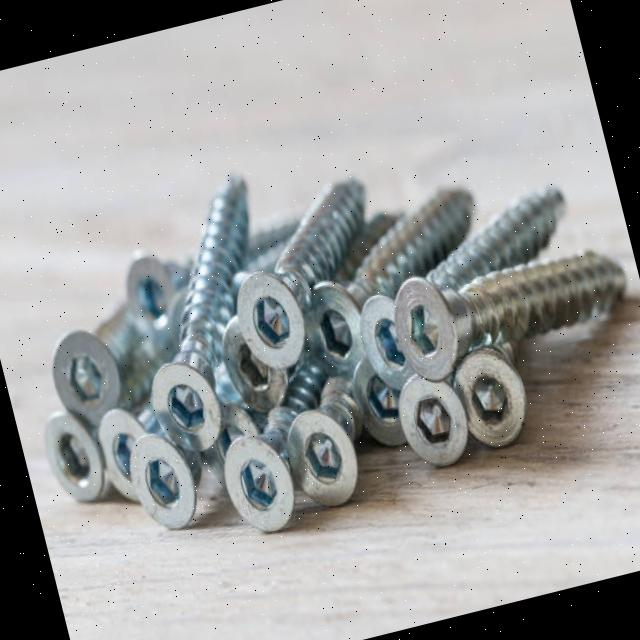Hex Socket Allen: (449, 344, 545, 455), (385, 365, 476, 475), (278, 401, 366, 513), (216, 425, 304, 537), (33, 322, 127, 424), (385, 266, 464, 372), (226, 267, 308, 366), (124, 434, 200, 530), (216, 317, 288, 413), (345, 350, 415, 440), (352, 290, 416, 384), (150, 365, 222, 447), (299, 281, 366, 368)
